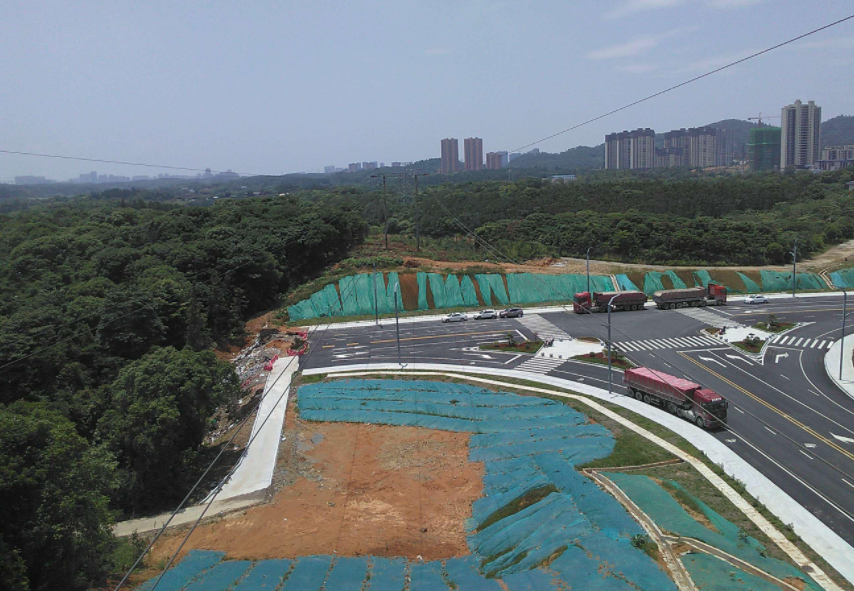绿膜: (296, 376, 618, 486), (462, 484, 678, 591), (139, 547, 501, 589), (415, 270, 615, 312), (286, 271, 408, 323), (676, 483, 766, 551), (679, 549, 786, 590), (758, 268, 829, 292), (690, 268, 746, 294), (785, 561, 828, 590), (642, 269, 687, 296), (616, 471, 681, 486), (825, 266, 853, 289), (615, 273, 641, 292), (747, 276, 762, 292)
